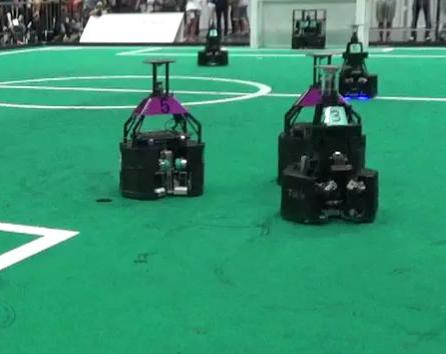robot: (280, 52, 382, 230), (116, 55, 205, 201), (333, 18, 384, 101), (192, 14, 233, 69)
